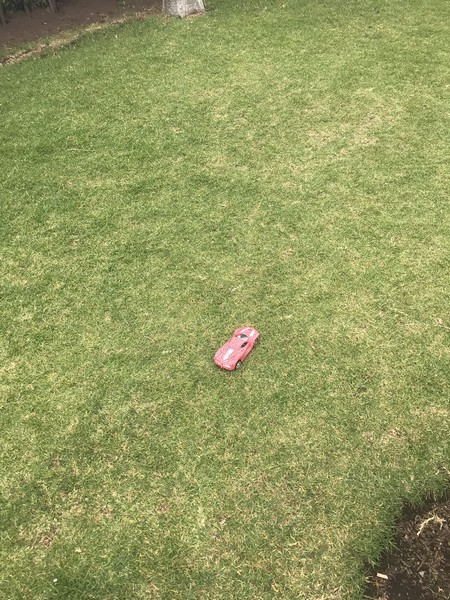RC: (211, 324, 261, 372)
